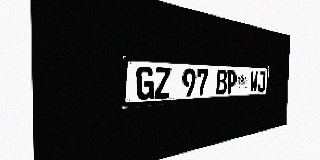7: (196, 69, 209, 96)
9: (182, 68, 196, 97)
B: (216, 70, 227, 95)
G: (136, 66, 154, 100)
J: (258, 71, 265, 92)
P: (227, 70, 237, 94)
W: (250, 71, 258, 92)
Z: (155, 67, 171, 99)
